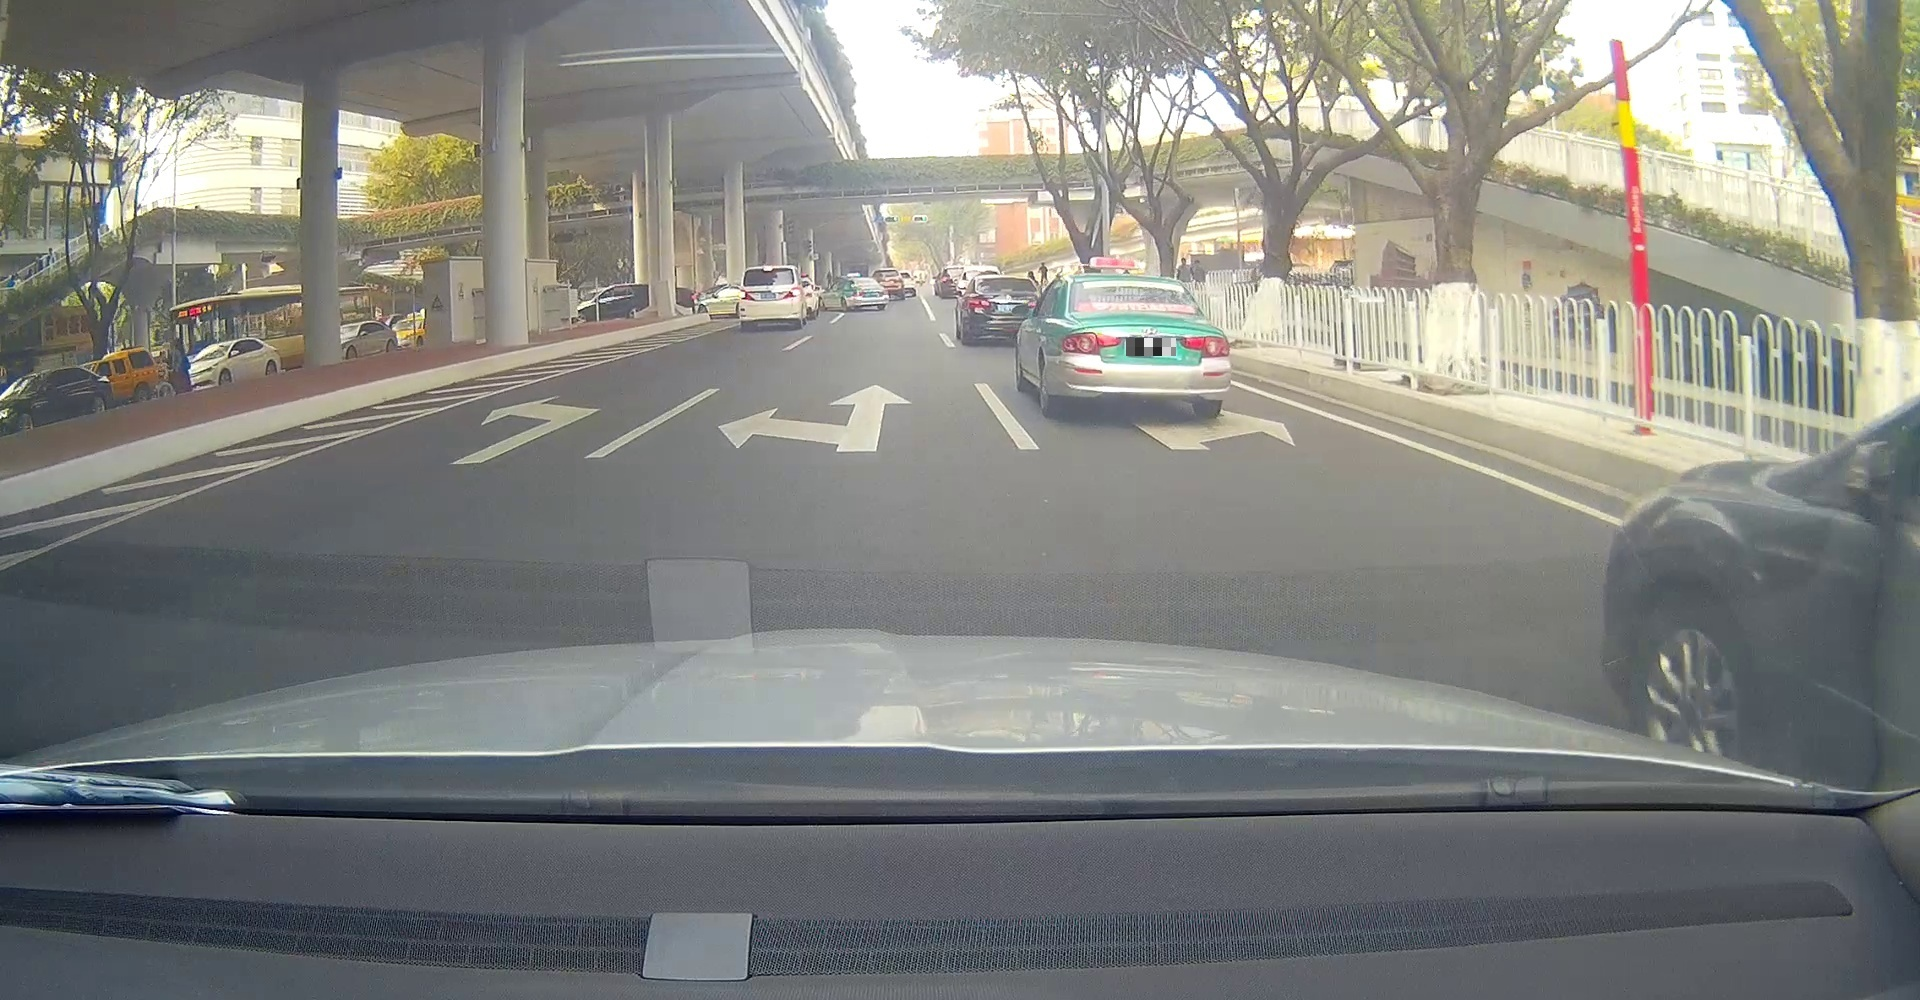L_light: (1062, 331, 1120, 357), (739, 289, 754, 301)
R_light: (1178, 335, 1229, 357), (783, 287, 800, 298)
T_light: (1125, 280, 1145, 287), (763, 268, 772, 272)
day-brake: (738, 266, 803, 330)
day-no: (1058, 275, 1232, 418)
plate_1: (1126, 338, 1176, 357)
